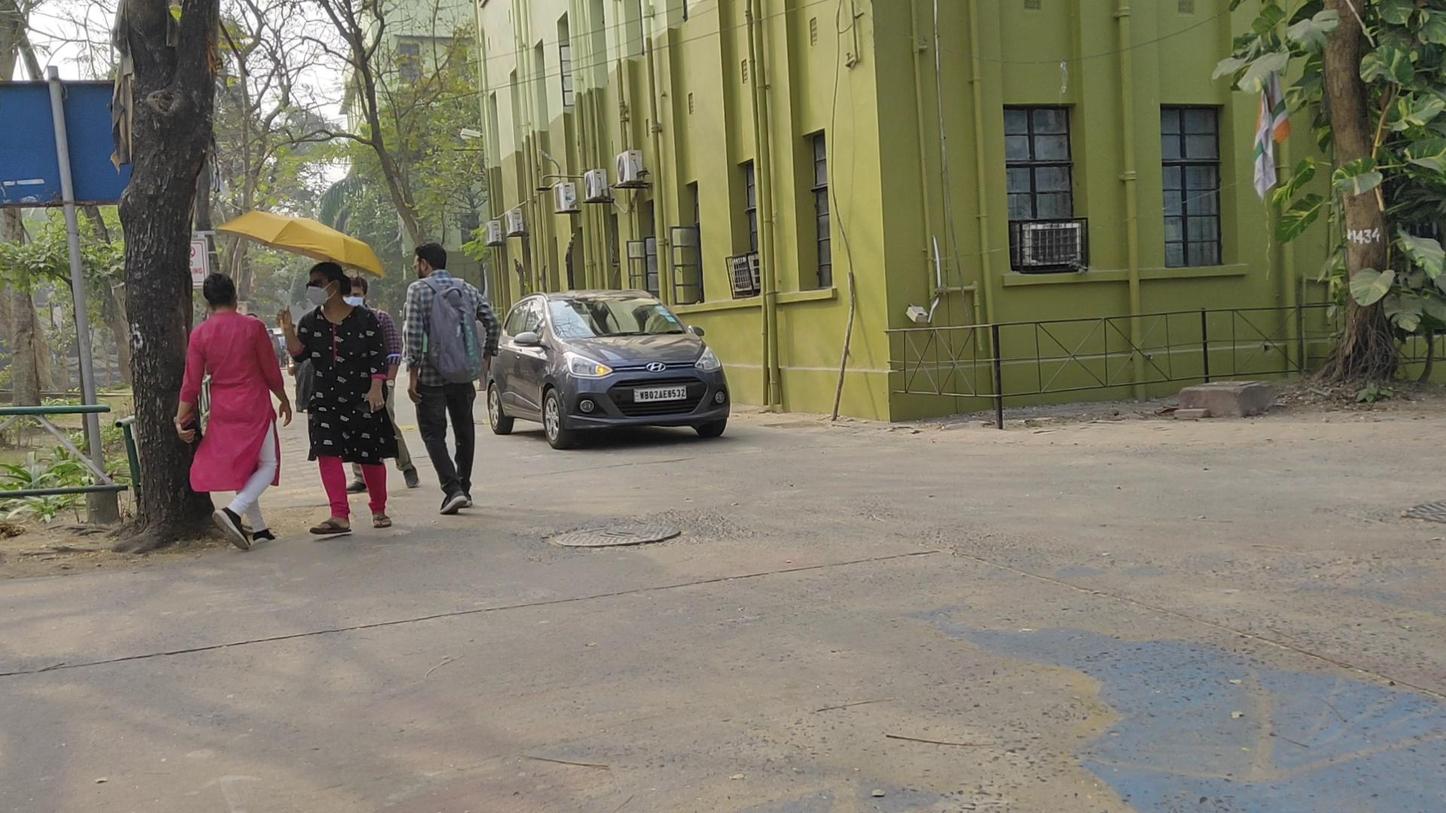car: (487, 290, 731, 450)
